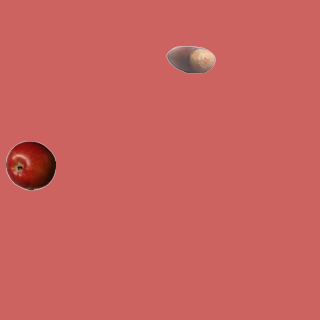Apple Braeburn: (5, 140, 55, 190)
Hazelnut: (165, 34, 215, 84)
